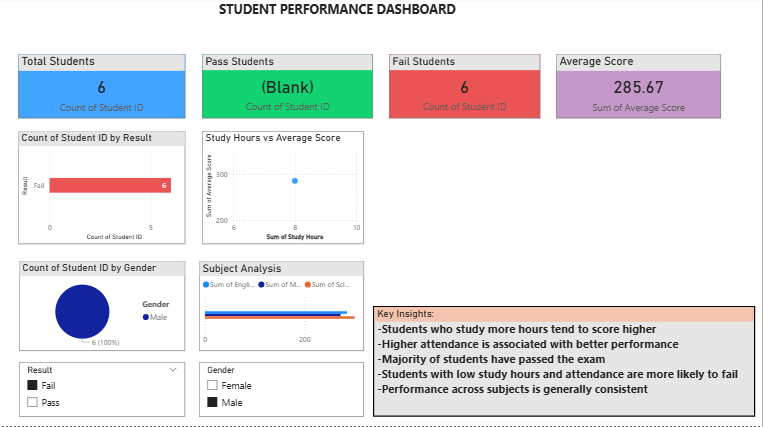

The page's visual inventory and layout, read from the dashboard file:
{"tool":"powerbi","page":{"name":"Page 1","canvas":[1280,720],"ordinal":0},"visuals":[{"type":"card","title":"Total Students","fields":{"Values":["CountNonNull(cleaned_student_data.Student ID)"]},"box":[30.2,95.7,280.5,107.5],"z":0},{"type":"card","title":"Average Score","fields":{"Values":["Sum(cleaned_student_data.Average Score)"]},"box":[934,95.7,277.2,107.5],"z":1000},{"type":"card","title":"Pass Students","fields":{"Values":["CountNonNull(cleaned_student_data.Student ID)"]},"box":[339.3,95.7,287.2,107.5],"z":2000},{"type":"clusteredBarChart","fields":{"Category":["cleaned_student_data.Result"],"Y":["CountNonNull(cleaned_student_data.Student ID)"]},"box":[30.2,225.1,280.5,189.8],"z":3000},{"type":"scatterChart","title":"Study Hours vs Average Score","fields":{"X":["Sum(cleaned_student_data.Study Hours)"],"Y":["Sum(cleaned_student_data.Average Score)"]},"box":[339.3,225.1,272.1,189.8],"z":4000},{"type":"pieChart","fields":{"Category":["cleaned_student_data.Gender"],"Y":["CountNonNull(cleaned_student_data.Student ID)"]},"box":[31.9,443.5,278.8,151.2],"z":5000},{"type":"slicer","fields":{"Values":["cleaned_student_data.Gender"]},"box":[334.3,613.1,277.2,92.4],"z":6000},{"type":"slicer","fields":{"Values":["cleaned_student_data.Result"]},"box":[31.9,613.1,278.8,92.4],"z":7000},{"type":"card","title":"Fail Students","fields":{"Values":["CountNonNull(cleaned_student_data.Student ID)"]},"box":[653.4,95.7,253.6,107.5],"z":8000},{"type":"clusteredBarChart","title":"Subject Analysis","fields":{"Y":["Sum(cleaned_student_data.English Score)","Sum(cleaned_student_data.Math Score)","Sum(cleaned_student_data.Science Score)"]},"box":[334.3,443.5,277.2,151.2],"z":9000},{"type":"textbox","box":[362,0,556,82.3],"z":10000},{"type":"textbox","title":"Key Insights:","box":[626.6,519.1,641.7,186.5],"z":11000}]}

Visuals, with their boxes in screenshot pixels (x1, y1, x2, y2), scaled from the page's 1280x720 canvas onto the 763x427 screenshot:
"Total Students" card: <bbox>18, 57, 185, 121</bbox>
"Average Score" card: <bbox>557, 57, 722, 121</bbox>
"Pass Students" card: <bbox>202, 57, 373, 121</bbox>
clusteredBarChart - cleaned_student_data.Result x CountNonNull(cleaned_student_data.Student ID): <bbox>18, 133, 185, 246</bbox>
"Study Hours vs Average Score" scatterChart: <bbox>202, 133, 364, 246</bbox>
pieChart - cleaned_student_data.Gender x CountNonNull(cleaned_student_data.Student ID): <bbox>19, 263, 185, 353</bbox>
slicer - cleaned_student_data.Gender: <bbox>199, 364, 365, 418</bbox>
slicer - cleaned_student_data.Result: <bbox>19, 364, 185, 418</bbox>
"Fail Students" card: <bbox>389, 57, 541, 121</bbox>
"Subject Analysis" clusteredBarChart: <bbox>199, 263, 365, 353</bbox>
textbox: <bbox>216, 0, 547, 49</bbox>
"Key Insights:" textbox: <bbox>374, 308, 756, 418</bbox>
